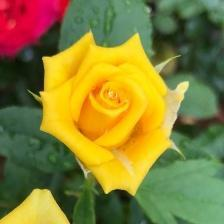rose: (40, 30, 184, 197)
